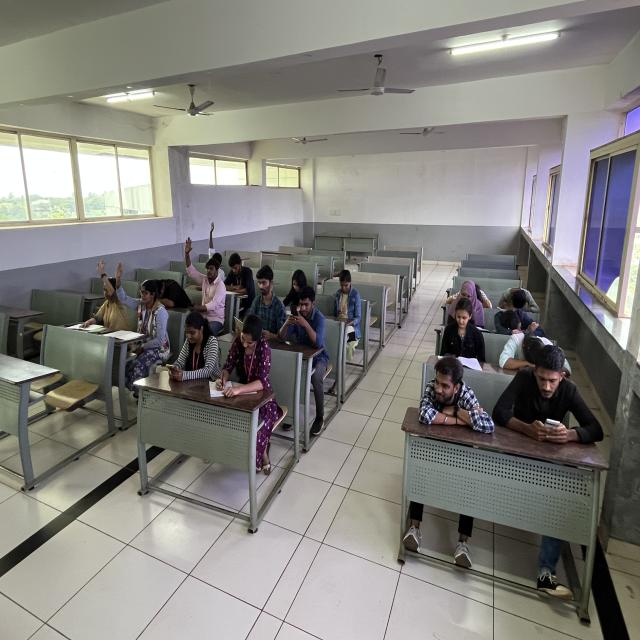Hand Rising: (110, 260, 172, 370), (75, 252, 130, 338), (169, 242, 228, 316), (200, 222, 229, 290)
Reading: (236, 262, 288, 345), (432, 302, 490, 372), (275, 264, 319, 316), (222, 249, 258, 301)
Sleeping: (498, 324, 571, 374), (135, 256, 191, 318), (492, 305, 570, 344), (496, 282, 554, 314), (444, 276, 499, 308)
Using Phone: (503, 343, 597, 480), (165, 314, 221, 400), (285, 292, 338, 375)
Writing: (207, 318, 282, 409)
